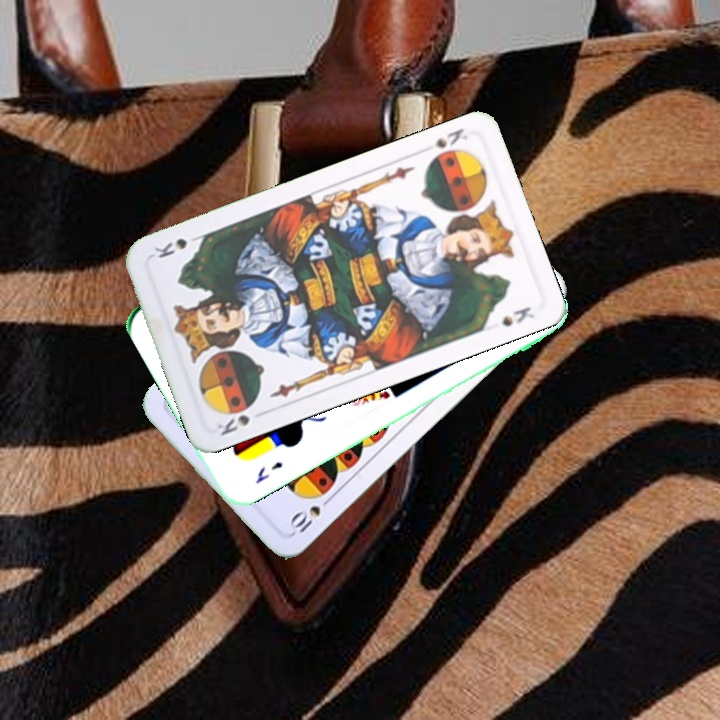EK: (250, 457, 286, 487)
S10: (286, 491, 336, 537)
SK: (213, 407, 269, 439), (429, 124, 471, 151)
